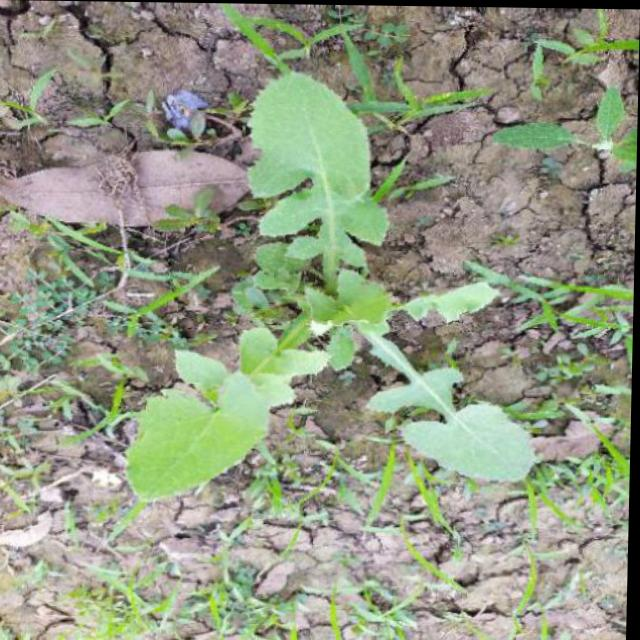crop: (129, 69, 542, 504), (7, 244, 106, 390), (75, 578, 298, 640), (552, 436, 632, 510)
